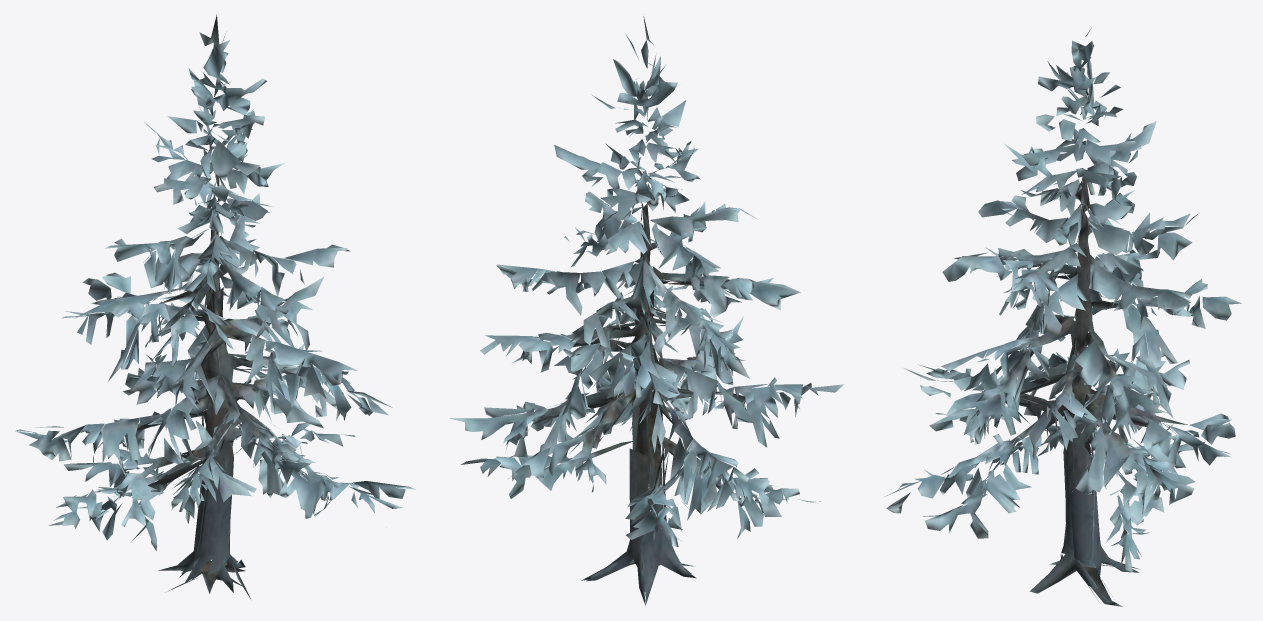
File: abeto_geada_broto.glb
The picture shows the model from 3 angles, left to right: view 1: azimuth 30°, elevation 25°; view 2: azimuth 150°, elevation 25°; view 3: azimuth 270°, elevation 25°; orthographic projection.
Parts seen in each view (by area): view 1: geometry_0.003; view 2: geometry_0.003; view 3: geometry_0.003.
Part boxes in pixels (bbox=[...]): geometry_0.003: bbox=[15, 14, 415, 598]; geometry_0.003: bbox=[449, 16, 843, 605]; geometry_0.003: bbox=[885, 27, 1241, 606].
Size of the model in its own units: 0.5831 by 0.953 by 0.5506.
Materials: 1 (1 with a texture image).
